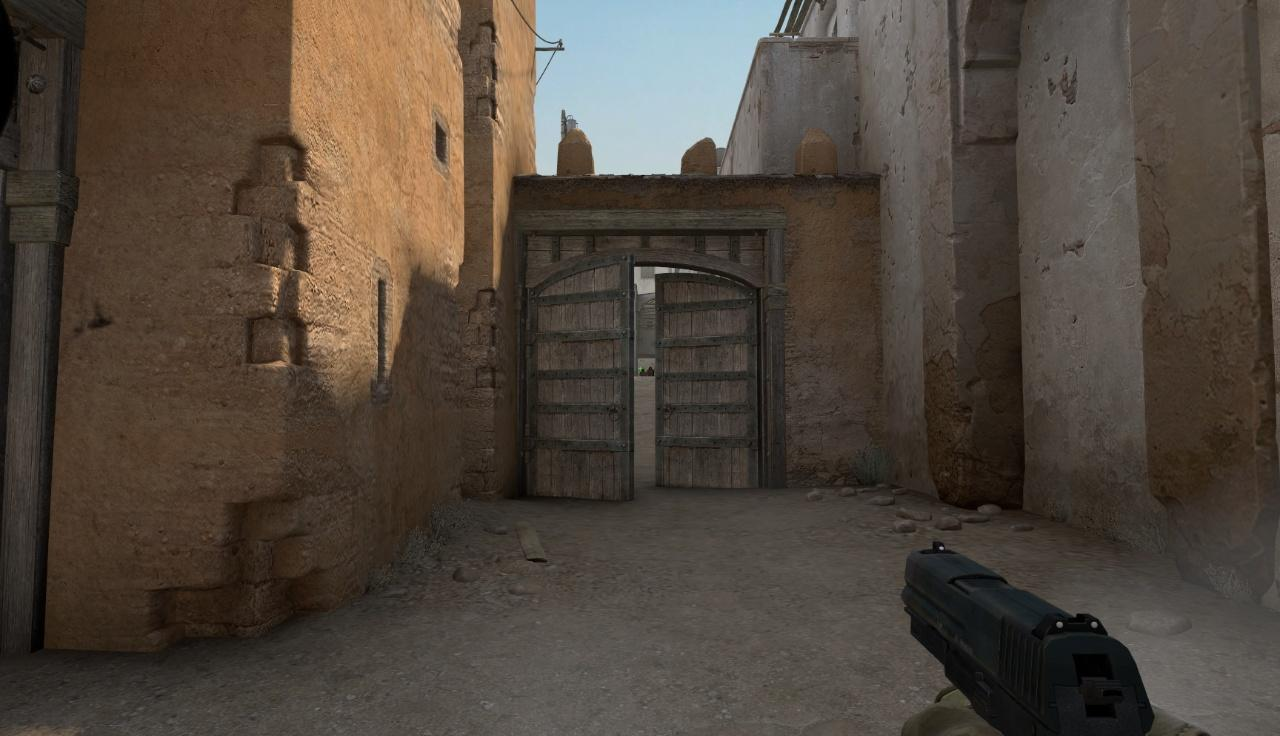ct: (647, 366, 654, 376), (639, 368, 647, 376)
cthead: (649, 367, 652, 371), (642, 369, 644, 372)
pistol: (900, 540, 1215, 736)
